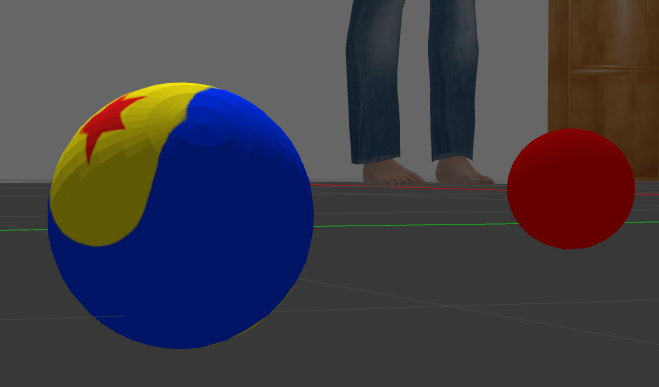toy story ball: (49, 82, 316, 350)
